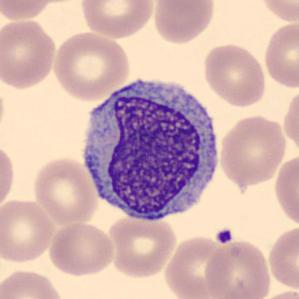Monocyte: (77, 74, 223, 226)
Platelets: (214, 226, 234, 246)
RBC: (50, 30, 132, 102), (217, 113, 288, 187), (104, 213, 178, 279), (30, 155, 98, 226), (162, 233, 234, 298), (201, 41, 268, 108), (0, 16, 58, 90), (202, 238, 272, 299), (47, 220, 117, 278), (0, 197, 57, 265), (80, 0, 156, 40), (151, 0, 217, 45), (262, 19, 298, 90), (265, 224, 299, 292), (0, 267, 66, 299), (272, 152, 298, 229), (281, 85, 299, 157), (0, 140, 17, 212), (0, 0, 55, 22), (257, 0, 298, 24), (255, 288, 299, 299), (0, 79, 7, 140)
